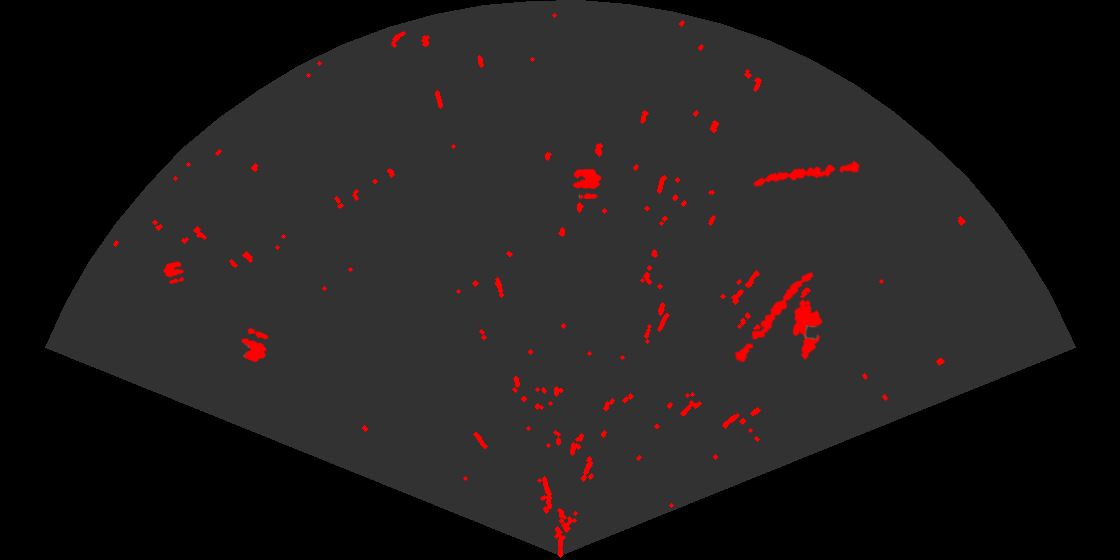AUV: (791, 297, 824, 362)
ball: (240, 326, 270, 364), (571, 167, 603, 201), (162, 260, 186, 286)
chain: (733, 270, 815, 364), (752, 159, 862, 188)
